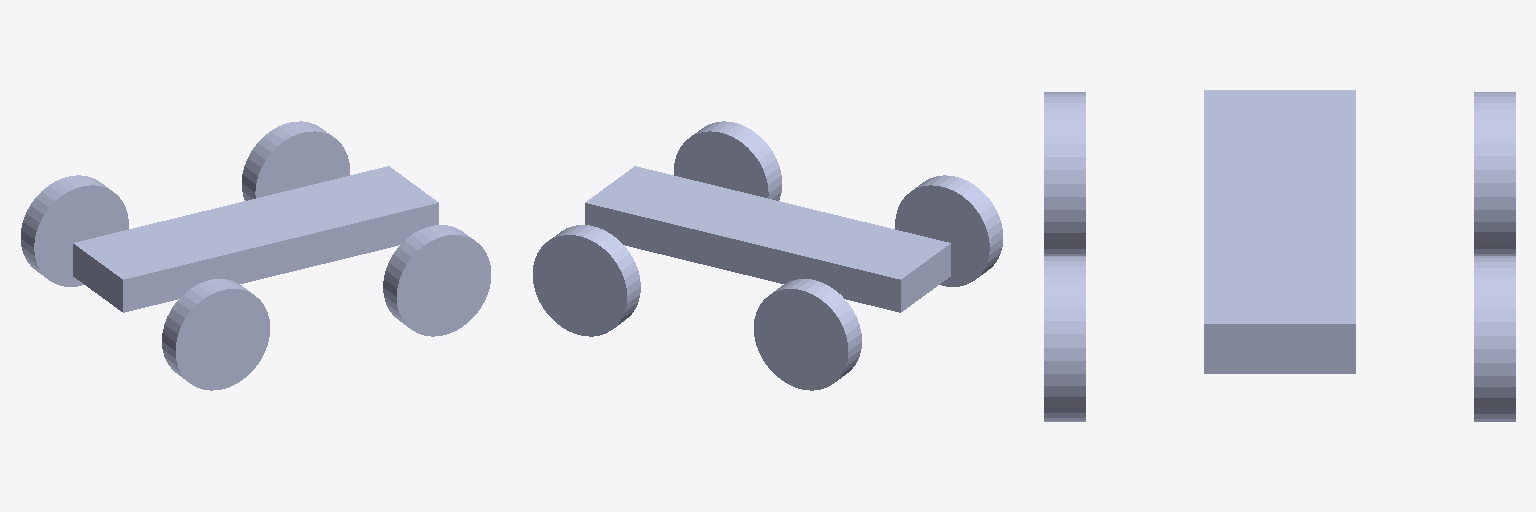
The robot description file, URDF, robot "car":
<?xml version="1.0" encoding="utf-8"?>
<!-- This URDF was automatically created by SolidWorks to URDF Exporter! Originally created by [author] ([email redacted]) 
     Commit Version: 1.6.0-4-g7f85cfe  Build Version: 1.6.7995.38578
     For more information, please see http://wiki.ros.org/sw_urdf_exporter -->
<robot
  name="car">
  <link
    name="base_link">
    <inertial>
      <origin
        xyz="-9.75905160029282E-17 0.01 -2.66582829339586E-17"
        rpy="0 0 0" />
      <mass
        value="0.22" />
      <inertia
        ixx="6.27916666666666E-05"
        ixy="5.12014475956279E-22"
        ixz="5.66314934761598E-21"
        iyy="0.000788791666666666"
        iyz="0"
        izz="0.000740666666666666" />
    </inertial>
    <visual>
      <origin
        xyz="0 0 0"
        rpy="0 0 0" />
      <geometry>
        <mesh
          filename="package://car/meshes/base_link.STL" />
      </geometry>
      <material
        name="">
        <color
          rgba="0.792156862745098 0.819607843137255 0.933333333333333 1" />
      </material>
    </visual>
    <collision>
      <origin
        xyz="0 0 0"
        rpy="0 0 0" />
      <geometry>
        <mesh
          filename="package://car/meshes/base_link.STL" />
      </geometry>
    </collision>
  </link>
  <link
    name="LT">
    <inertial>
      <origin
        xyz="0 3.29597460435593E-17 0"
        rpy="0 0 0" />
      <mass
        value="0.0424115008234622" />
      <inertia
        ixx="1.03378033257189E-05"
        ixy="2.64697796016969E-23"
        ixz="6.65955313054933E-40"
        iyy="1.03378033257189E-05"
        iyz="-3.44318714584968E-38"
        izz="1.9085175370558E-05" />
    </inertial>
    <visual>
      <origin
        xyz="0 0 0"
        rpy="0 0 0" />
      <geometry>
        <mesh
          filename="package://car/meshes/LT.STL" />
      </geometry>
      <material
        name="">
        <color
          rgba="0.792156862745098 0.819607843137255 0.933333333333333 1" />
      </material>
    </visual>
    <collision>
      <origin
        xyz="0 0 0"
        rpy="0 0 0" />
      <geometry>
        <mesh
          filename="package://car/meshes/LT.STL" />
      </geometry>
    </collision>
  </link>
  <joint
    name="LT"
    type="revolute">
    <origin
      xyz="0.07 0.0775 0"
      rpy="1.5708 0.019339 0" />
    <parent
      link="base_link" />
    <child
      link="LT" />
    <axis
      xyz="0.019338 -0.99981 0" />
    <limit
      lower="-0.78539"
      upper="0.78539"
      effort="0"
      velocity="0" />
  </joint>
  <link
    name="LF">
    <inertial>
      <origin
        xyz="0 3.29597460435593E-17 0"
        rpy="0 0 0" />
      <mass
        value="0.0424115008234622" />
      <inertia
        ixx="1.03378033257189E-05"
        ixy="0"
        ixz="6.65955313054933E-40"
        iyy="1.03378033257189E-05"
        iyz="-3.44318714584968E-38"
        izz="1.9085175370558E-05" />
    </inertial>
    <visual>
      <origin
        xyz="0 0 0"
        rpy="0 0 0" />
      <geometry>
        <mesh
          filename="package://car/meshes/LF.STL" />
      </geometry>
      <material
        name="">
        <color
          rgba="0.792156862745098 0.819607843137255 0.933333333333333 1" />
      </material>
    </visual>
    <collision>
      <origin
        xyz="0 0 0"
        rpy="0 0 0" />
      <geometry>
        <mesh
          filename="package://car/meshes/LF.STL" />
      </geometry>
    </collision>
  </link>
  <joint
    name="LF"
    type="continuous">
    <origin
      xyz="0 0 0"
      rpy="0 0 0" />
    <parent
      link="LT" />
    <child
      link="LF" />
    <axis
      xyz="0 0 0" />
    <limit
      lower="-120"
      upper="120"
      effort="0"
      velocity="20" />
  </joint>
  <link
    name="RT">
    <inertial>
      <origin
        xyz="0 3.29597460435593E-17 0"
        rpy="0 0 0" />
      <mass
        value="0.0424115008234622" />
      <inertia
        ixx="1.03378033257189E-05"
        ixy="1.44813871407676E-38"
        ixz="-1.83670992315982E-38"
        iyy="1.03378033257189E-05"
        iyz="-3.44383110592467E-38"
        izz="1.9085175370558E-05" />
    </inertial>
    <visual>
      <origin
        xyz="0 0 0"
        rpy="0 0 0" />
      <geometry>
        <mesh
          filename="package://car/meshes/RT.STL" />
      </geometry>
      <material
        name="">
        <color
          rgba="0.792156862745098 0.819607843137255 0.933333333333333 1" />
      </material>
    </visual>
    <collision>
      <origin
        xyz="0 0 0"
        rpy="0 0 0" />
      <geometry>
        <mesh
          filename="package://car/meshes/RT.STL" />
      </geometry>
    </collision>
  </link>
  <joint
    name="RT"
    type="revolute">
    <origin
      xyz="0.07 -0.0775 0"
      rpy="1.5708 0 0" />
    <parent
      link="base_link" />
    <child
      link="RT" />
    <axis
      xyz="0 -1 0" />
    <limit
      lower="-0.78539"
      upper="0.78539"
      effort="0"
      velocity="0" />
  </joint>
  <link
    name="RF">
    <inertial>
      <origin
        xyz="0 3.29597460435593E-17 0"
        rpy="0 0 0" />
      <mass
        value="0.0424115008234622" />
      <inertia
        ixx="1.03378033257189E-05"
        ixy="1.44813871407675E-38"
        ixz="0"
        iyy="1.03378033257189E-05"
        iyz="-3.44383110592467E-38"
        izz="1.9085175370558E-05" />
    </inertial>
    <visual>
      <origin
        xyz="0 0 0"
        rpy="0 0 0" />
      <geometry>
        <mesh
          filename="package://car/meshes/RF.STL" />
      </geometry>
      <material
        name="">
        <color
          rgba="0.792156862745098 0.819607843137255 0.933333333333333 1" />
      </material>
    </visual>
    <collision>
      <origin
        xyz="0 0 0"
        rpy="0 0 0" />
      <geometry>
        <mesh
          filename="package://car/meshes/RF.STL" />
      </geometry>
    </collision>
  </link>
  <joint
    name="RF"
    type="continuous">
    <origin
      xyz="0 0 0"
      rpy="0 0 0" />
    <parent
      link="RT" />
    <child
      link="RF" />
    <axis
      xyz="0 0 0" />
    <limit
      lower="-120"
      upper="120"
      effort="0"
      velocity="20" />
  </joint>
  <link
    name="LB">
    <inertial>
      <origin
        xyz="-1.38777878078145E-17 1.04083408558608E-17 0"
        rpy="0 0 0" />
      <mass
        value="0.0424115008234622" />
      <inertia
        ixx="1.03378033257189E-05"
        ixy="-7.41153828847513E-22"
        ixz="1.47132898176964E-37"
        iyy="1.03378033257189E-05"
        iyz="-1.94259249332072E-38"
        izz="1.9085175370558E-05" />
    </inertial>
    <visual>
      <origin
        xyz="0 0 0"
        rpy="0 0 0" />
      <geometry>
        <mesh
          filename="package://car/meshes/LB.STL" />
      </geometry>
      <material
        name="">
        <color
          rgba="0.792156862745098 0.819607843137255 0.933333333333333 1" />
      </material>
    </visual>
    <collision>
      <origin
        xyz="0 0 0"
        rpy="0 0 0" />
      <geometry>
        <mesh
          filename="package://car/meshes/LB.STL" />
      </geometry>
    </collision>
  </link>
  <joint
    name="LB"
    type="continuous">
    <origin
      xyz="-0.07 0.0775 0"
      rpy="1.5708 0.15842 0" />
    <parent
      link="base_link" />
    <child
      link="LB" />
    <axis
      xyz="0 0 1" />
    <limit
      lower="-120"
      upper="120"
      effort="100"
      velocity="20" />
  </joint>
  <link
    name="RB">
    <inertial>
      <origin
        xyz="0 2.77555756156289E-17 0"
        rpy="0 0 0" />
      <mass
        value="0.0424115008234622" />
      <inertia
        ixx="1.03378033257189E-05"
        ixy="0"
        ixz="0"
        iyy="1.03378033257189E-05"
        iyz="-1.84407463356536E-38"
        izz="1.9085175370558E-05" />
    </inertial>
    <visual>
      <origin
        xyz="0 0 0"
        rpy="0 0 0" />
      <geometry>
        <mesh
          filename="package://car/meshes/RB.STL" />
      </geometry>
      <material
        name="">
        <color
          rgba="0.792156862745098 0.819607843137255 0.933333333333333 1" />
      </material>
    </visual>
    <collision>
      <origin
        xyz="0 0 0"
        rpy="0 0 0" />
      <geometry>
        <mesh
          filename="package://car/meshes/RB.STL" />
      </geometry>
    </collision>
  </link>
  <joint
    name="RB"
    type="continuous">
    <origin
      xyz="-0.07 -0.0775 0"
      rpy="1.5708 0 0" />
    <parent
      link="base_link" />
    <child
      link="RB" />
    <axis
      xyz="0 0 1" />
    <limit
      lower="-120"
      upper="120"
      effort="100"
      velocity="20" />
  </joint>
</robot>

--- Render facts (derived) ---
Views: 3 orthographic renders of the robot side by side, from view 1: azimuth 30°, elevation 25°; view 2: azimuth 150°, elevation 25°; view 3: azimuth 270°, elevation 25°.
Model car with 7 links and 6 joints (2 revolute, 4 continuous), rooted at base_link, posed all joints at 0.
Visible links, largest first — view 1: base_link, RB, RF, LB, LT; view 2: base_link, LB, LT, RB, RF; view 3: base_link, LT, RF, LB, RB.
Link boxes in pixels (bbox=[...]): base_link: bbox=[73, 166, 438, 312]; RB: bbox=[162, 279, 269, 390]; RF: bbox=[383, 225, 490, 336]; LB: bbox=[21, 175, 128, 286]; LT: bbox=[242, 121, 349, 200]; base_link: bbox=[585, 166, 950, 312]; LB: bbox=[754, 279, 861, 390]; LT: bbox=[533, 225, 640, 336]; RB: bbox=[895, 175, 1002, 286]; RF: bbox=[674, 121, 781, 200]; base_link: bbox=[1204, 90, 1355, 373]; LT: bbox=[1474, 256, 1515, 421]; RF: bbox=[1044, 256, 1085, 421]; LB: bbox=[1474, 92, 1515, 255]; RB: bbox=[1044, 92, 1085, 255].
Bounding box of the posed robot: 0.2 × 0.17 × 0.0599 m (x, y, z).
5 mesh visuals loaded from 7 distinct referenced files (5 binary STL); not drawn: 2 (reference not matched to a file when rendering).